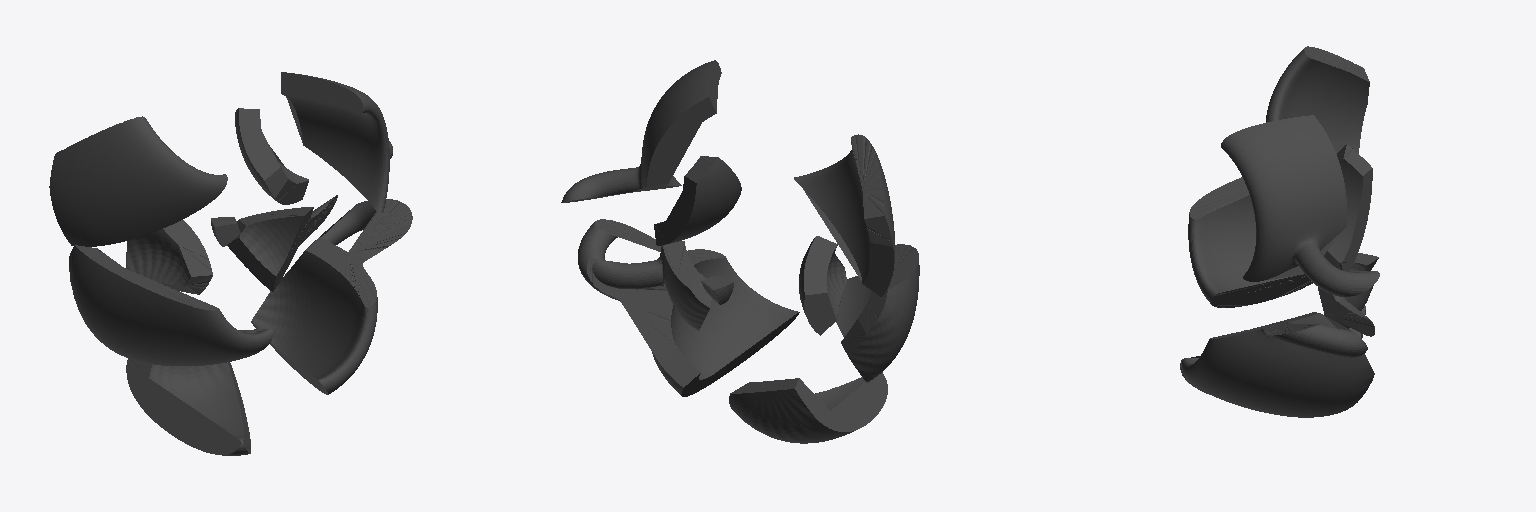
Rendered from fractured_cup.obj.
The picture shows the model from 3 angles: view 1: azimuth 30°, elevation 25°; view 2: azimuth 150°, elevation 25°; view 3: azimuth 270°, elevation 25°; orthographic projection.
Parts seen in each view (by area): view 1: NurbsPath_Mesh_cell.033_Mesh.363, NurbsPath_Mesh_cell.022_Mesh.362, NurbsPath_Mesh_cell.002_Mesh.357, NurbsPath_Mesh_cell.019_Mesh.361, NurbsPath_Mesh_cell_Mesh.356, NurbsPath_Mesh_cell.006_Mesh.359, NurbsPath_Mesh_cell.037_Mesh.365, NurbsPath_Mesh_cell.036_Mesh.364, NurbsPath_Mesh_cell.010_Mesh.360; view 2: NurbsPath_Mesh_cell.033_Mesh.363, NurbsPath_Mesh_cell.022_Mesh.362, NurbsPath_Mesh_cell_Mesh.356, NurbsPath_Mesh_cell.019_Mesh.361, NurbsPath_Mesh_cell.002_Mesh.357, NurbsPath_Mesh_cell.006_Mesh.359, NurbsPath_Mesh_cell.036_Mesh.364, NurbsPath_Mesh_cell.037_Mesh.365, NurbsPath_Mesh_cell.010_Mesh.360; view 3: NurbsPath_Mesh_cell.019_Mesh.361, NurbsPath_Mesh_cell.033_Mesh.363, NurbsPath_Mesh_cell.002_Mesh.357, NurbsPath_Mesh_cell.022_Mesh.362, NurbsPath_Mesh_cell.036_Mesh.364, NurbsPath_Mesh_cell.006_Mesh.359.
Boxes of the visible parts, x1=… form: NurbsPath_Mesh_cell.033_Mesh.363: x1=251, y1=199, x2=412, y2=394; NurbsPath_Mesh_cell.022_Mesh.362: x1=49, y1=116, x2=227, y2=246; NurbsPath_Mesh_cell.002_Mesh.357: x1=69, y1=245, x2=272, y2=365; NurbsPath_Mesh_cell.019_Mesh.361: x1=281, y1=72, x2=392, y2=212; NurbsPath_Mesh_cell_Mesh.356: x1=126, y1=358, x2=250, y2=455; NurbsPath_Mesh_cell.006_Mesh.359: x1=227, y1=195, x2=337, y2=291; NurbsPath_Mesh_cell.037_Mesh.365: x1=125, y1=220, x2=212, y2=294; NurbsPath_Mesh_cell.036_Mesh.364: x1=235, y1=108, x2=308, y2=204; NurbsPath_Mesh_cell.010_Mesh.360: x1=211, y1=217, x2=240, y2=246; NurbsPath_Mesh_cell.033_Mesh.363: x1=578, y1=219, x2=799, y2=396; NurbsPath_Mesh_cell.022_Mesh.362: x1=794, y1=134, x2=894, y2=296; NurbsPath_Mesh_cell_Mesh.356: x1=729, y1=372, x2=887, y2=443; NurbsPath_Mesh_cell.019_Mesh.361: x1=561, y1=60, x2=721, y2=202; NurbsPath_Mesh_cell.002_Mesh.357: x1=836, y1=244, x2=919, y2=382; NurbsPath_Mesh_cell.006_Mesh.359: x1=592, y1=241, x2=712, y2=330; NurbsPath_Mesh_cell.036_Mesh.364: x1=654, y1=156, x2=741, y2=245; NurbsPath_Mesh_cell.037_Mesh.365: x1=799, y1=236, x2=846, y2=335; NurbsPath_Mesh_cell.010_Mesh.360: x1=701, y1=275, x2=733, y2=304; NurbsPath_Mesh_cell.019_Mesh.361: x1=1221, y1=115, x2=1379, y2=296; NurbsPath_Mesh_cell.033_Mesh.363: x1=1182, y1=312, x2=1374, y2=417; NurbsPath_Mesh_cell.002_Mesh.357: x1=1188, y1=177, x2=1363, y2=307; NurbsPath_Mesh_cell.022_Mesh.362: x1=1266, y1=46, x2=1369, y2=153; NurbsPath_Mesh_cell.036_Mesh.364: x1=1324, y1=145, x2=1372, y2=271; NurbsPath_Mesh_cell.006_Mesh.359: x1=1318, y1=271, x2=1374, y2=336.
Size of the model in its own units: 0.4179 by 0.3963 by 0.218.